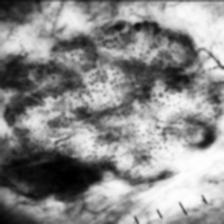Potentially Malignant Skin Tumors: (1, 17, 224, 203)
